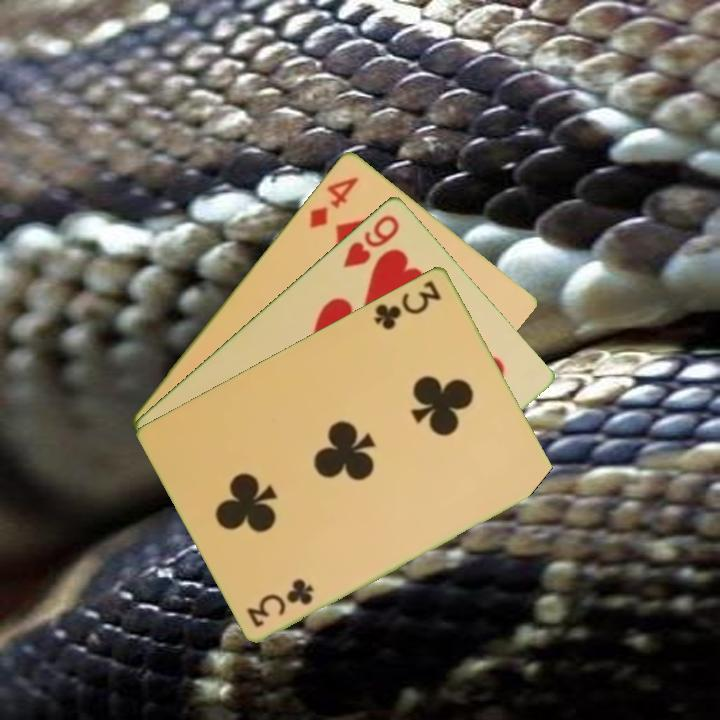3c: (370, 276, 444, 332), (243, 576, 317, 630)
4d: (306, 172, 361, 231)
9h: (339, 210, 403, 271)
